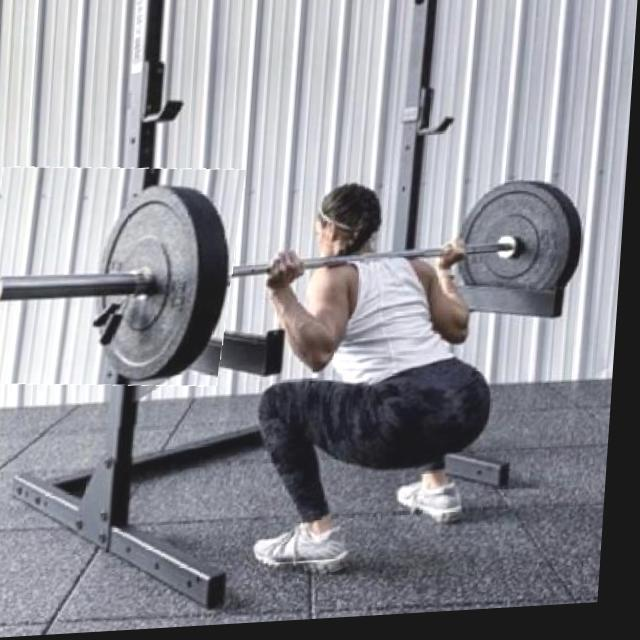barbell: (1, 161, 247, 397)
